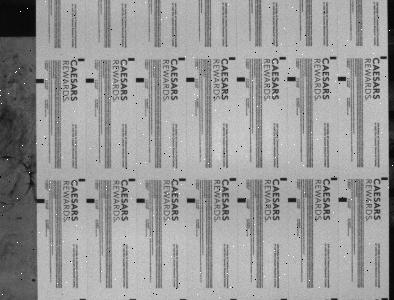qblock: (136, 198, 145, 203), (187, 198, 196, 203), (136, 78, 144, 83), (338, 76, 346, 81), (86, 78, 94, 83), (237, 77, 245, 82), (238, 198, 246, 203), (339, 197, 347, 202), (287, 77, 296, 81), (186, 78, 195, 82), (288, 198, 297, 202), (87, 199, 95, 203), (36, 79, 44, 83), (36, 199, 44, 203)
smallqblock: (179, 57, 185, 61), (79, 178, 85, 182), (129, 178, 135, 182), (281, 177, 287, 181), (78, 59, 85, 62), (280, 57, 287, 60), (229, 57, 236, 60), (381, 56, 388, 59), (230, 178, 237, 181), (382, 177, 389, 180), (331, 297, 338, 300), (128, 58, 135, 61), (330, 57, 337, 60), (180, 178, 186, 181), (331, 177, 337, 180), (382, 297, 388, 300), (280, 298, 288, 300), (79, 298, 86, 300), (180, 298, 187, 300), (230, 298, 237, 300), (129, 298, 136, 300)
